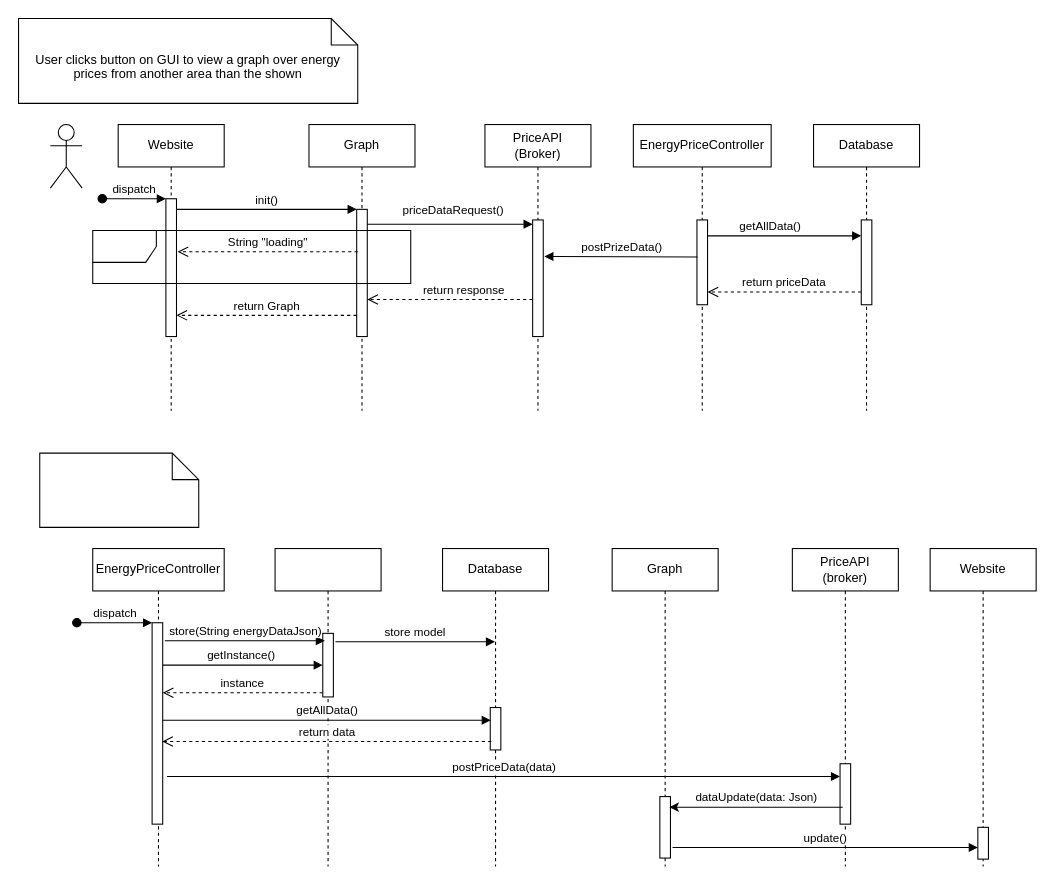
This 1055x885 diagram has some shape labels left out. Each missing label, with the centre of its shape:
alt: (x=251, y=256)
DBConnection: (x=327, y=707)
New data fetched from the EnergyAPI: (x=119, y=489)
User: (x=65, y=155)
